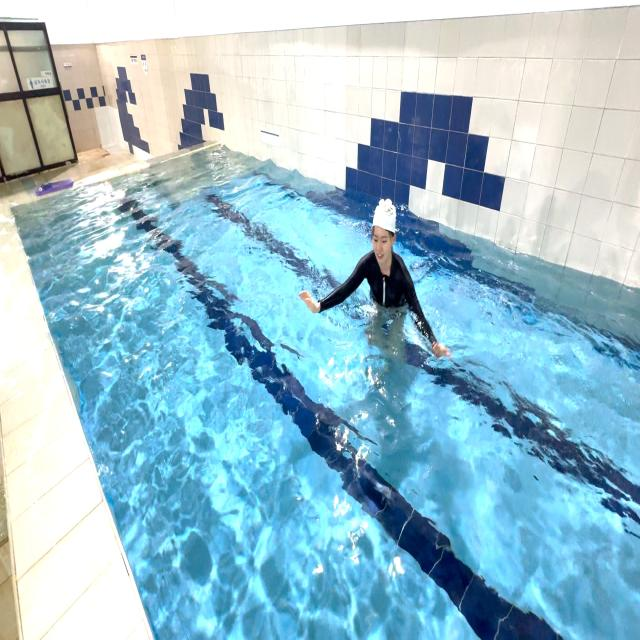Swimming: (300, 194, 453, 362)
